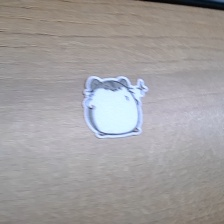mouse: (82, 71, 149, 141)
